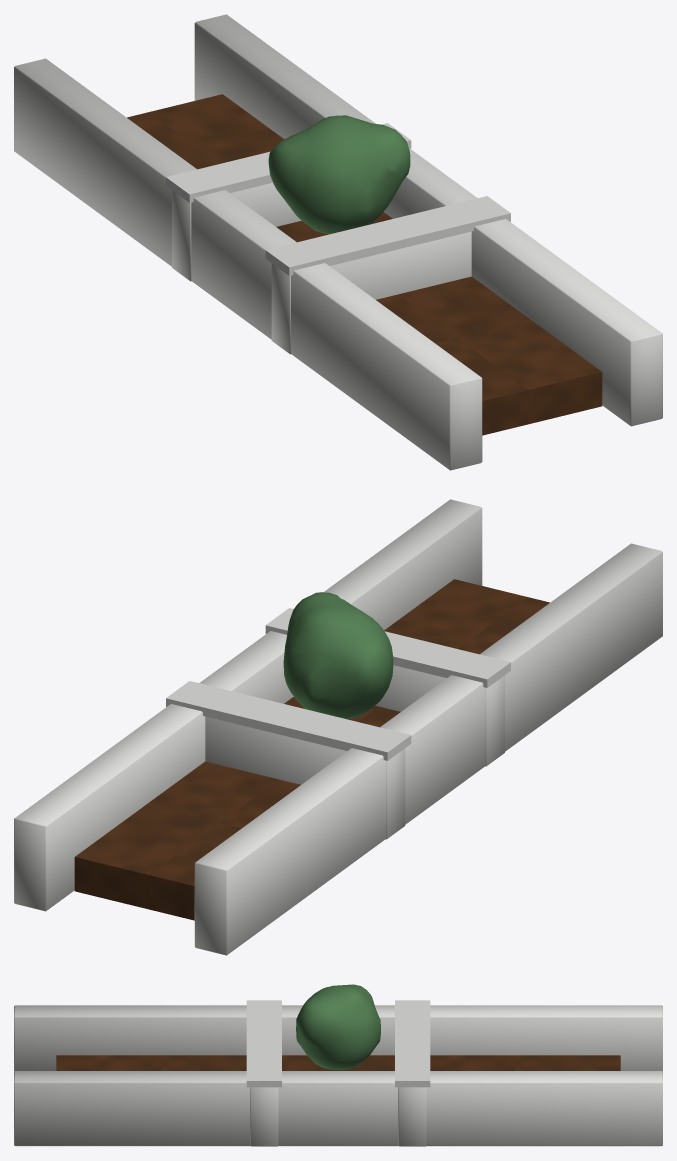
The model's file is Median_Planter.fbx.
3 renders of one model, top to bottom at view 1: azimuth 30°, elevation 25°; view 2: azimuth 150°, elevation 25°; view 3: azimuth 270°, elevation 25°, orthographic. The views are drawn at different scales.
Parts seen in each view (by area): view 1: LOD0; view 2: LOD0; view 3: LOD0.
Part boxes in pixels (box(x1,y1,x2,y2)): LOD0: box(14, 14, 662, 470); LOD0: box(14, 499, 662, 955); LOD0: box(14, 984, 662, 1146).
Size of what is drawn, in the model's own units: 108 by 75.29 by 368.
